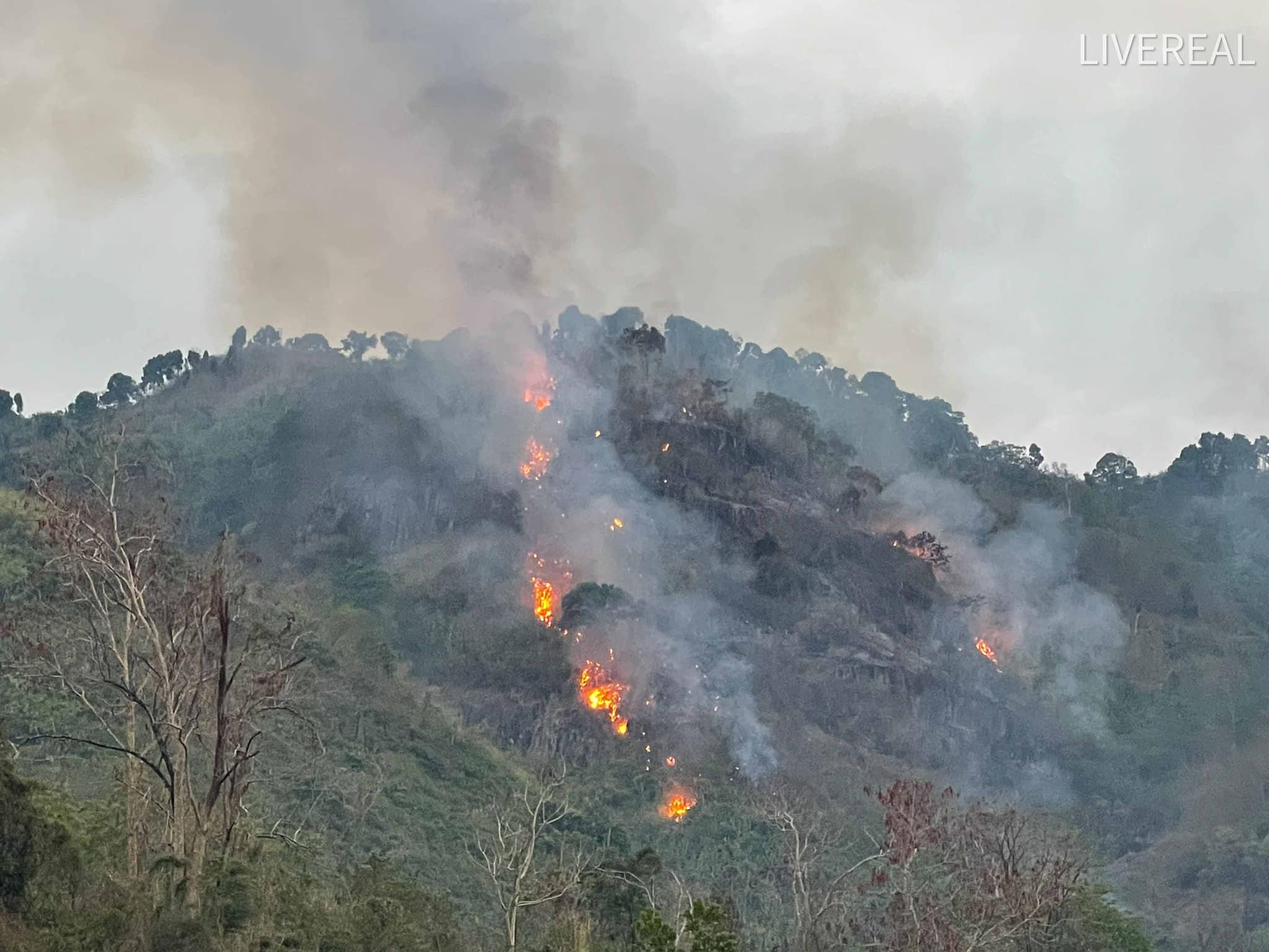fire: (450, 278, 787, 897)
